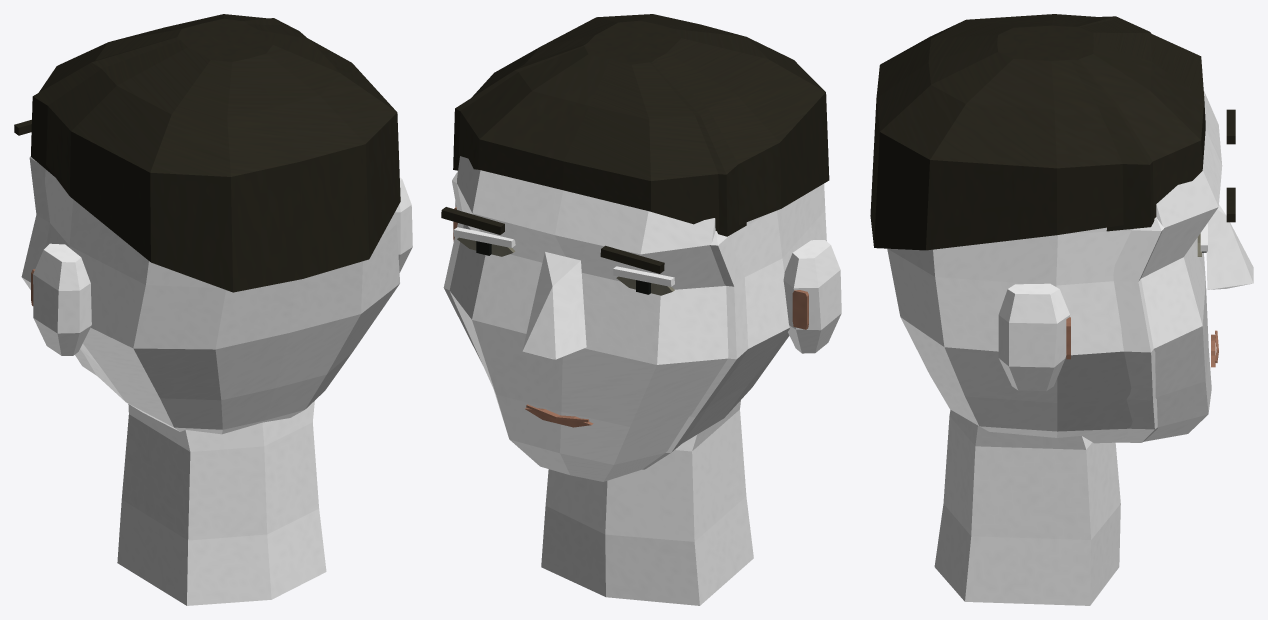
3 views of the same model, side by side, from view 1: azimuth 30°, elevation 25°; view 2: azimuth 150°, elevation 25°; view 3: azimuth 270°, elevation 25° (orthographic). The views are drawn at different scales.
Parts seen in each view (by area): view 1: face_08_head_LOD0_RAID_skin.001, face_08_head_LOD0_RAID_hair0.001, face_08_head_LOD1_RAID_hair0.001, face_08_head_LOD1_RAID_skin.001; view 2: face_08_head_LOD0_RAID_skin.001, face_08_head_LOD0_RAID_hair0.001, face_08_head_LOD1_RAID_hair0.001, face_08_head_LOD1_RAID_skin.001, face_08_head_LOD0_RAID_lip.001, face_08_head_LOD0_RAID_eye.001; view 3: face_08_head_LOD0_RAID_skin.001, face_08_head_LOD0_RAID_hair0.001, face_08_head_LOD1_RAID_skin.001, face_08_head_LOD1_RAID_hair0.001.
Boxes of the visible parts, box(x1,y1,x2,y2) form: face_08_head_LOD0_RAID_skin.001: box(33, 170, 412, 605); face_08_head_LOD0_RAID_hair0.001: box(14, 14, 400, 292); face_08_head_LOD1_RAID_hair0.001: box(31, 18, 306, 176); face_08_head_LOD1_RAID_skin.001: box(21, 156, 96, 375); face_08_head_LOD0_RAID_skin.001: box(449, 156, 841, 605); face_08_head_LOD0_RAID_hair0.001: box(441, 14, 829, 273); face_08_head_LOD1_RAID_hair0.001: box(453, 24, 746, 236); face_08_head_LOD1_RAID_skin.001: box(443, 171, 748, 469); face_08_head_LOD0_RAID_lip.001: box(453, 207, 808, 427); face_08_head_LOD0_RAID_eye.001: box(457, 237, 674, 295); face_08_head_LOD0_RAID_skin.001: box(887, 90, 1253, 605); face_08_head_LOD0_RAID_hair0.001: box(870, 14, 1235, 250); face_08_head_LOD1_RAID_skin.001: box(1113, 217, 1164, 442); face_08_head_LOD1_RAID_hair0.001: box(997, 16, 1154, 231).
Bounding box in the file's own units: 0.2844 × 0.391 × 0.257.
Materials: 5 (5 with a texture image).
